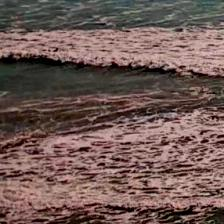surfer: (47, 47, 59, 52)
